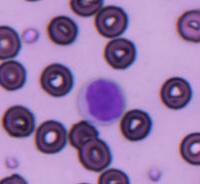L: (76, 76, 126, 125)
